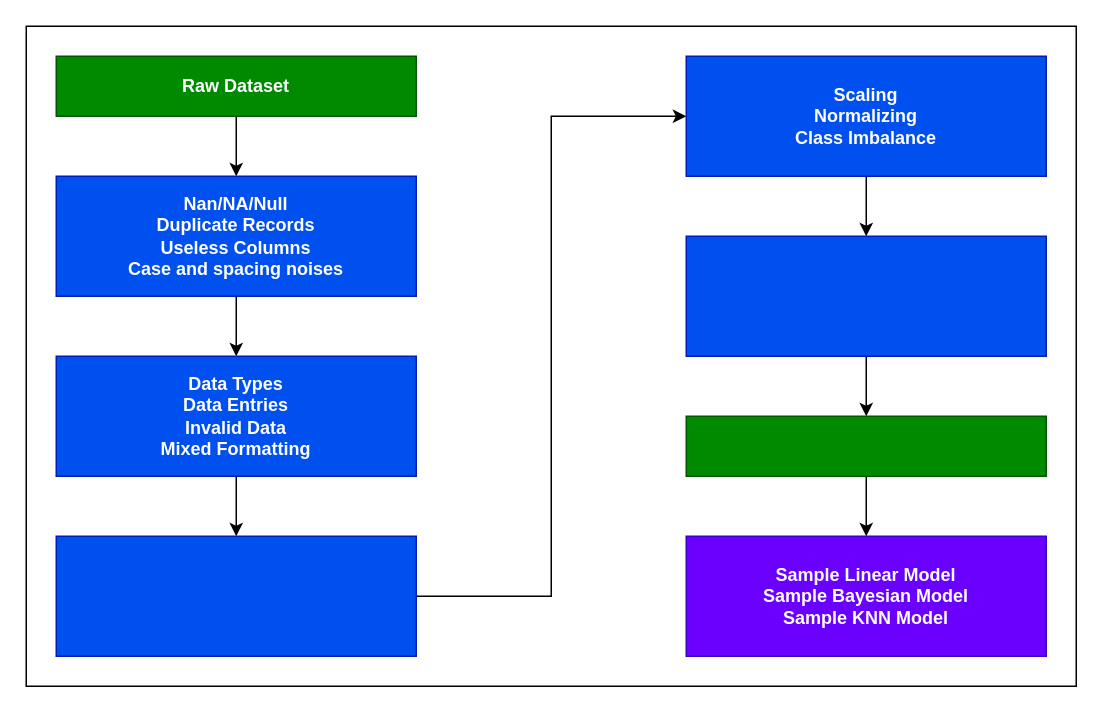
This 1103x713 diagram has some shape labels left out. The centre of each missing label's shape, as x and y in pixels:
"Categorical Relationships (encode) Correlation Analysis(PCC) Outliers" goes at point (235, 595).
"Clean Dataset Train Test Validation Split" goes at point (865, 445).
"Feature Engineering Feature Selection Correlation Analysis (PCC)" goes at point (865, 295).
